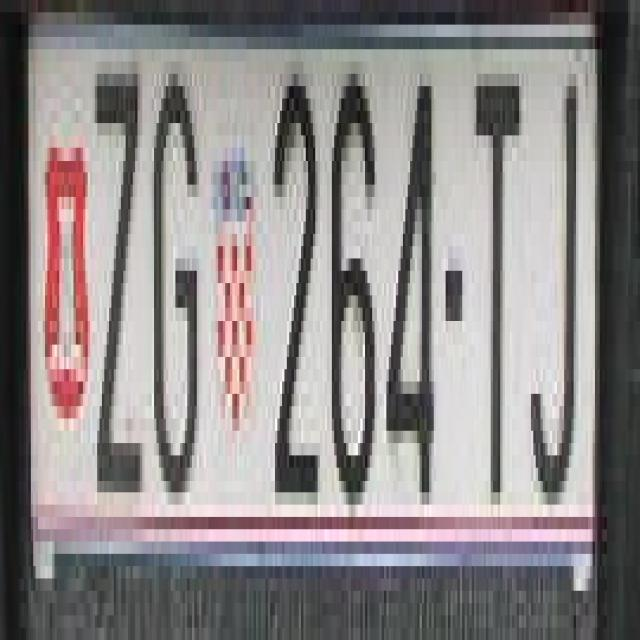2: (266, 61, 318, 492)
4: (382, 61, 438, 492)
6: (330, 62, 380, 504)
G: (149, 61, 197, 468)
T: (474, 62, 522, 504)
Z: (90, 49, 140, 480)
